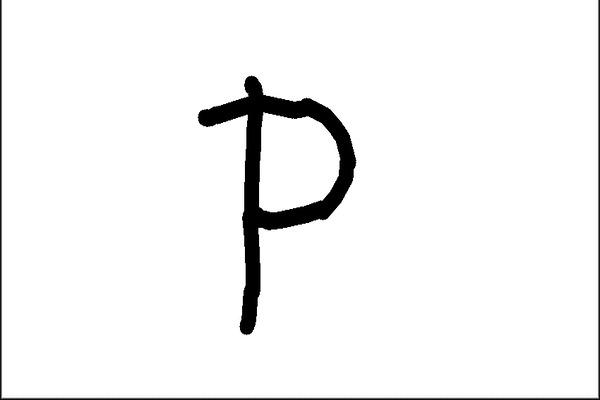P: (185, 53, 362, 343)
